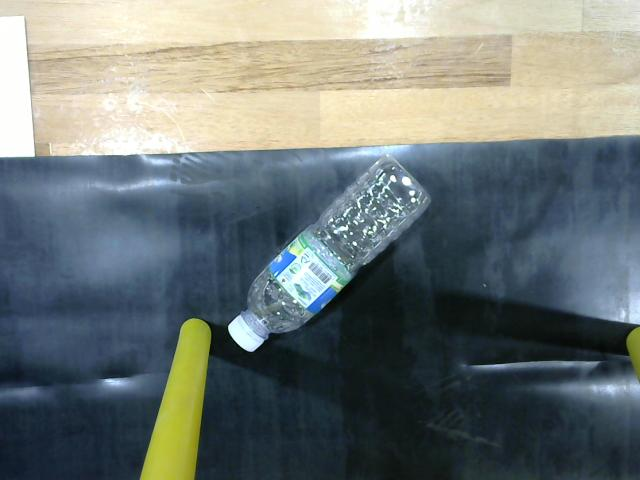bottle: (222, 144, 441, 363)
